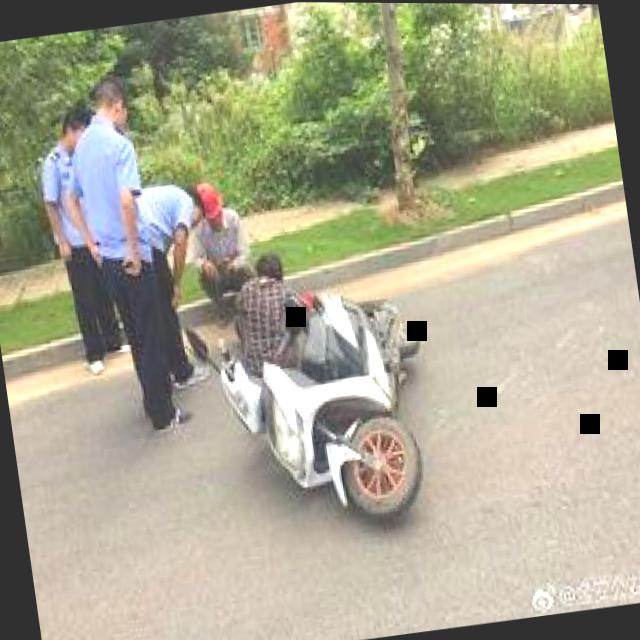Fall-Detected: (212, 239, 306, 364)
